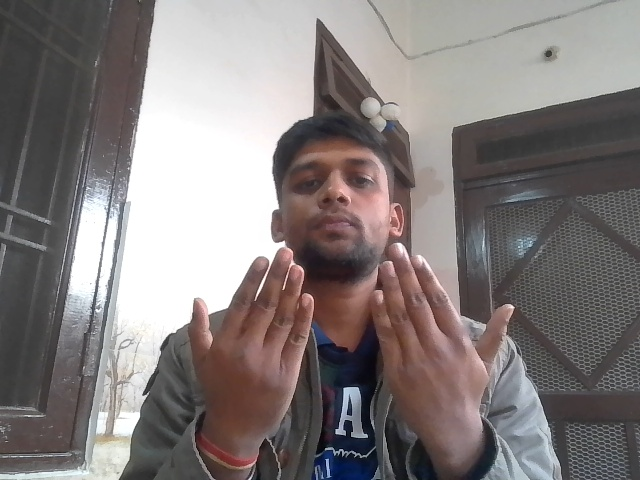ThankYou: (170, 240, 545, 433)
